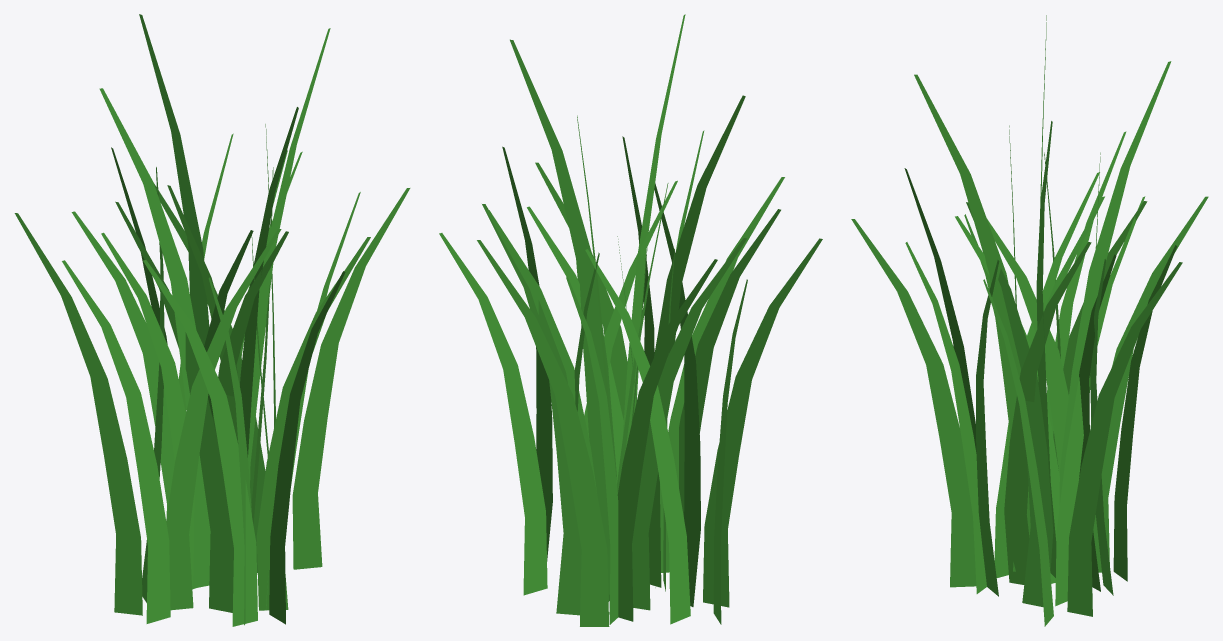
Rendered from Tuft of grass.gltf.
3 views of the same model, side by side, from view 1: azimuth 30°, elevation 25°; view 2: azimuth 150°, elevation 25°; view 3: azimuth 270°, elevation 25° (orthographic). The views are drawn at different scales.
Visible parts, largest first — view 1: node-0; view 2: node-0; view 3: node-0.
Part boxes in pixels (x1=…): node-0: x1=14, y1=14, x2=410, y2=626; node-0: x1=439, y1=14, x2=822, y2=626; node-0: x1=851, y1=15, x2=1208, y2=626.
Size of the model in its own units: 239 by 364 by 231.
